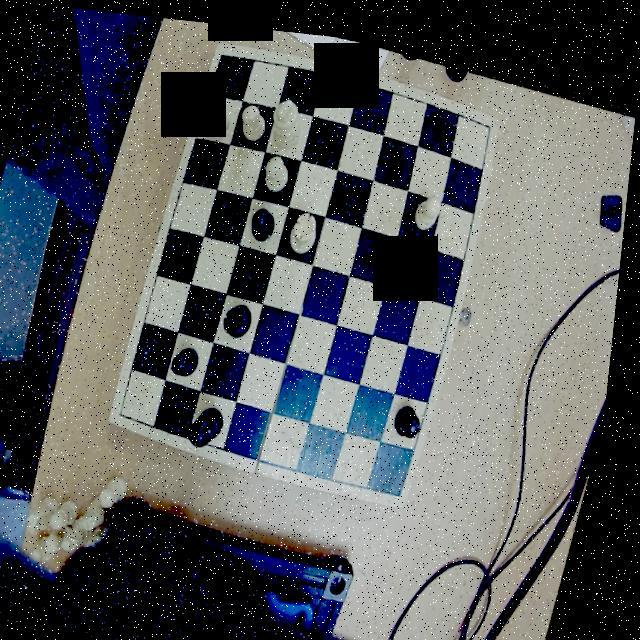chess-table-corners: (392, 466, 420, 496), (118, 398, 144, 425), (212, 36, 232, 68), (475, 100, 498, 126)
